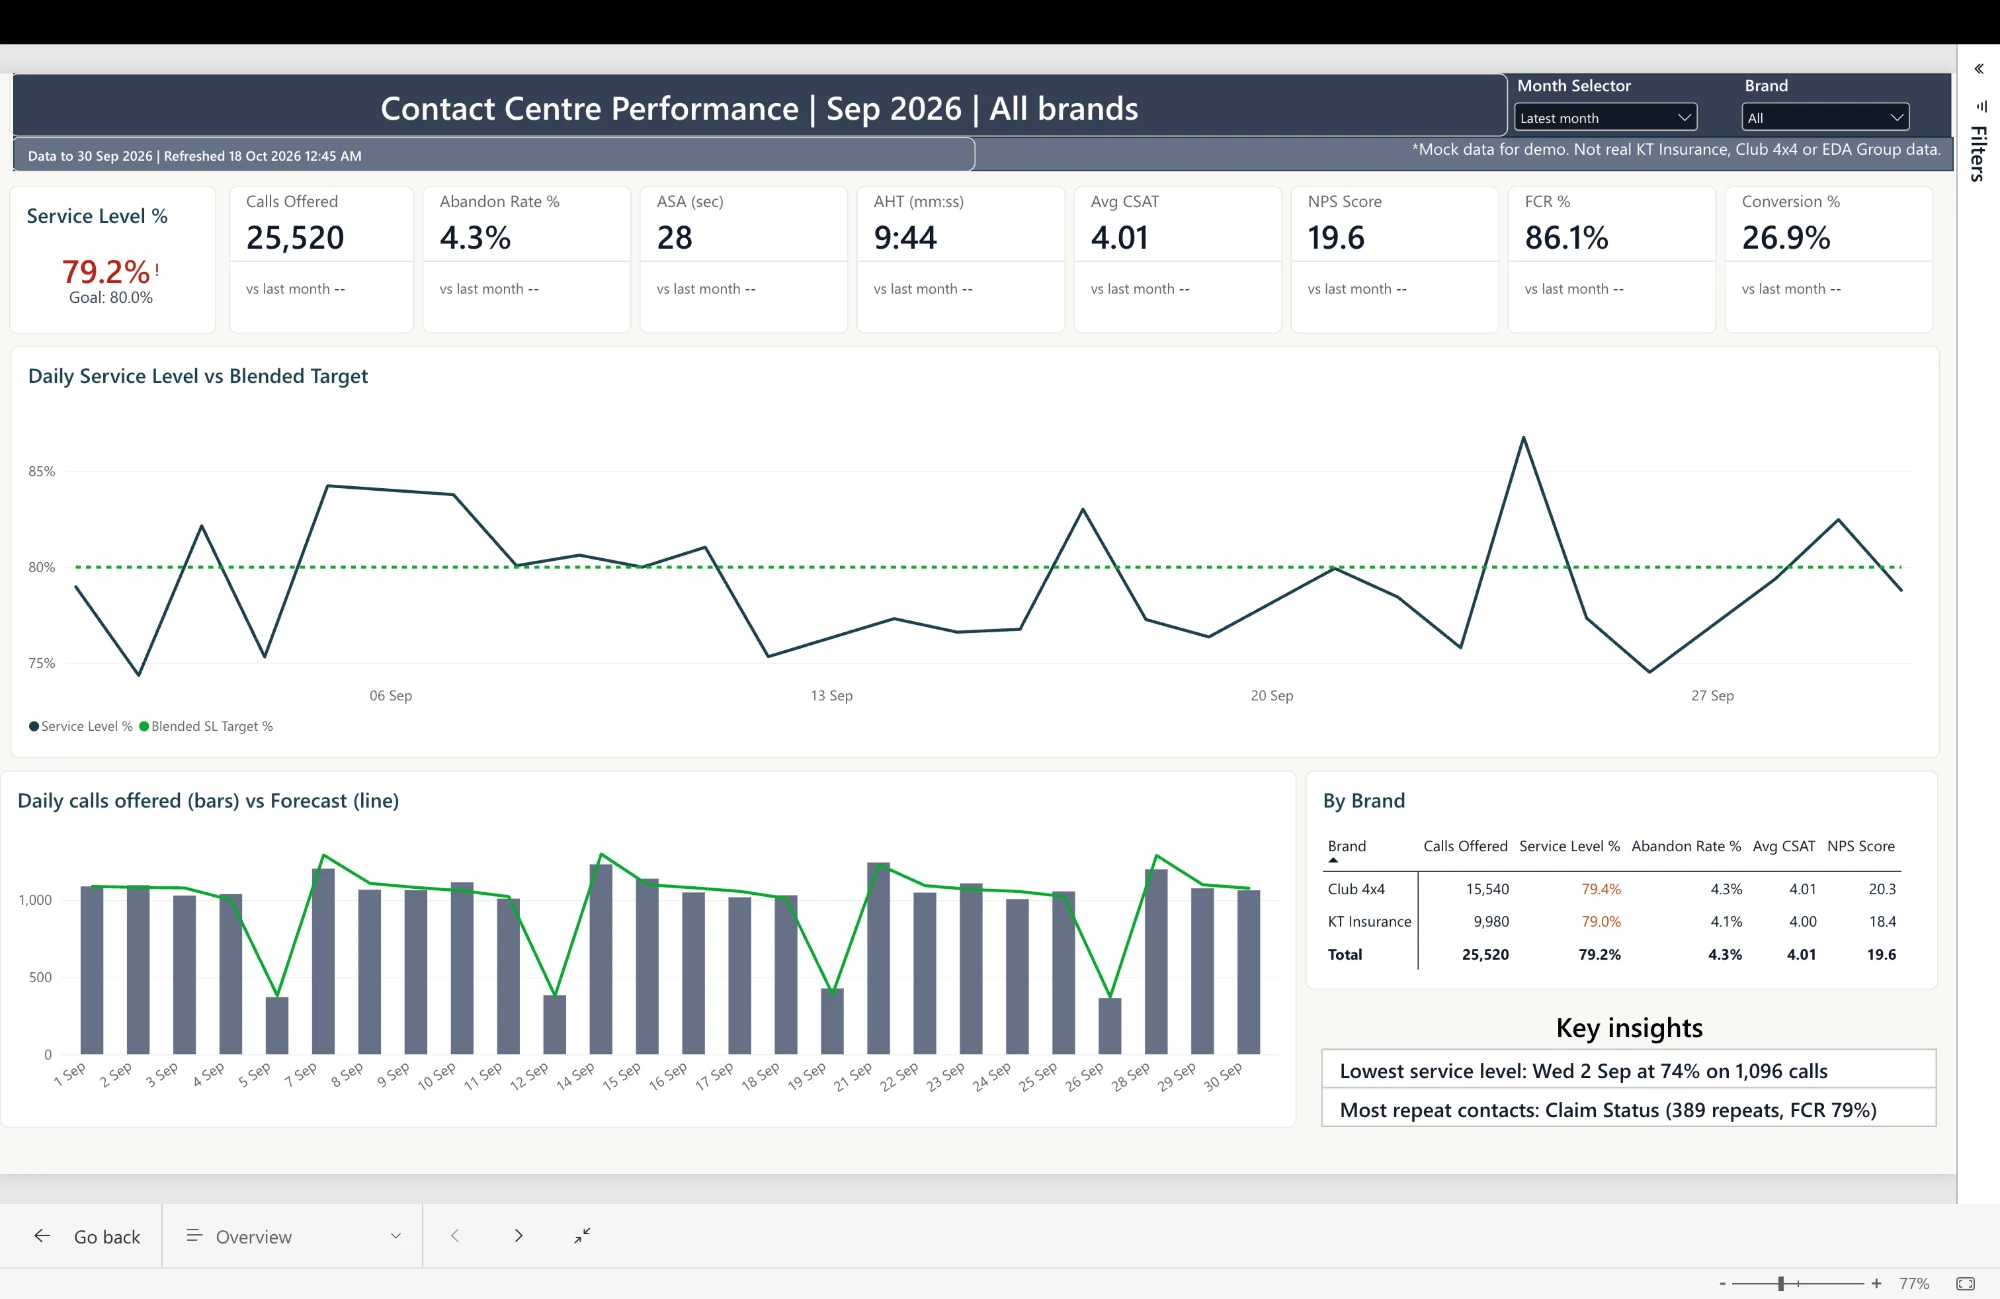

The dashboard page shown, as its layout file describes it:
{"tool":"powerbi","page":{"name":"Overview","canvas":[1920,1080],"ordinal":0},"visuals":[{"type":"shape","title":"Accent Bg","box":[13.4,62.5,1904.4,33.5],"z":0},{"type":"shape","title":"Header Bg","box":[13.4,0,1902.1,62.5],"z":1000},{"type":"cardVisual","fields":{"Data":["Calls.Abandon Rate %","Calls.ASA (sec)","Calls.AHT (mm:ss)","Surveys.Avg CSAT","Surveys.NPS Score","Interactions.FCR %","Interactions.Conversion %"]},"box":[394.7,110.7,1525.3,145.7],"z":2000},{"type":"lineClusteredColumnComboChart","title":"Daily calls offered (bars) vs Forecast (line)","fields":{"Category":["Date.Date"],"Y":["Calls.Calls Offered"],"Y2":["Forecast.Forecast Offered"]},"box":[0,683.8,1272.4,350.5],"z":3000},{"type":"lineChart","title":"Daily Service Level vs Blended Target","fields":{"Category":["Date.Date"],"Y":["Calls.Service Level %","Calls.Blended SL Target %"]},"box":[9.9,267.9,1893.7,404.4],"z":4000},{"type":"cardVisual","title":"Key insights","fields":{"Data":["Calls.Worst SL Day","Calls.Top Repeat Reason"]},"box":[1297.1,916.2,605,118],"z":5000},{"type":"cardVisual","fields":{"Data":["Calls.Calls Offered"]},"box":[225,110.7,182.6,145.7],"z":6000},{"type":"kpi","title":"Service Level %","fields":{"Goal":["Calls.Blended SL Target %"],"Indicator":["Calls.Service Level %"],"TrendLine":["Date.Reporting Month"]},"box":[9.2,110.7,202.9,145.7],"z":7000},{"type":"pivotTable","title":"\tBy Brand","fields":{"Rows":["Queue.Brand"],"Values":["Calls.Calls Offered","Calls.Service Level %","Calls.Abandon Rate %","Surveys.Avg CSAT","Surveys.NPS Score"]},"box":[1281.9,683.8,621,215.2],"z":8000},{"type":"cardVisual","fields":{"Data":["Calls.Report Title"]},"box":[8.9,0,1471.8,62.7],"z":9000},{"type":"slicer","fields":{"Values":["Date.Month Selector"]},"box":[1481,0,190,62.7],"z":10000},{"type":"slicer","fields":{"Values":["Queue.Brand"]},"box":[1704.2,0,175.2,62.7],"z":11000},{"type":"cardVisual","fields":{"Data":["Calls.Data As At"]},"box":[10.1,62.3,947.3,34.2],"z":12000},{"type":"textbox","box":[961.3,62.3,943.2,34.2],"z":12001}]}

Visuals, with their boxes on the page's 1920x1080 design canvas (x1, y1, x2, y2). These are canvas units, not pixel positions in the 2000x1299 screenshot, which may show the page scaled, cropped or inside an application window:
"Accent Bg" shape: 13 62 1918 96
"Header Bg" shape: 13 0 1916 62
cardVisual - Calls.Abandon Rate % x Calls.ASA (sec): 395 111 1920 256
"Daily calls offered (bars) vs Forecast (line)" lineClusteredColumnComboChart: 0 684 1272 1034
"Daily Service Level vs Blended Target" lineChart: 10 268 1904 672
"Key insights" cardVisual: 1297 916 1902 1034
cardVisual - Calls.Calls Offered: 225 111 408 256
"Service Level %" kpi: 9 111 212 256
"	By Brand" pivotTable: 1282 684 1903 899
cardVisual - Calls.Report Title: 9 0 1481 63
slicer - Date.Month Selector: 1481 0 1671 63
slicer - Queue.Brand: 1704 0 1879 63
cardVisual - Calls.Data As At: 10 62 957 96
textbox: 961 62 1904 96
